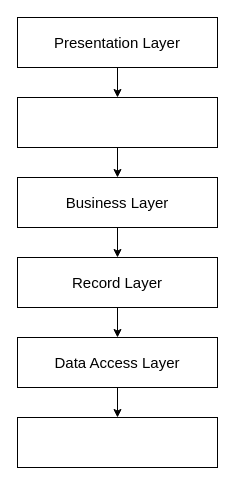
Image size: 235x485. Some labels were removed from this diagram. The shapes that lost their labels are listed below. From the top down, each one's centre as x and y in pixels, then its label:
At (117,122): "Controller Layer".
At (117,442): "Database".
